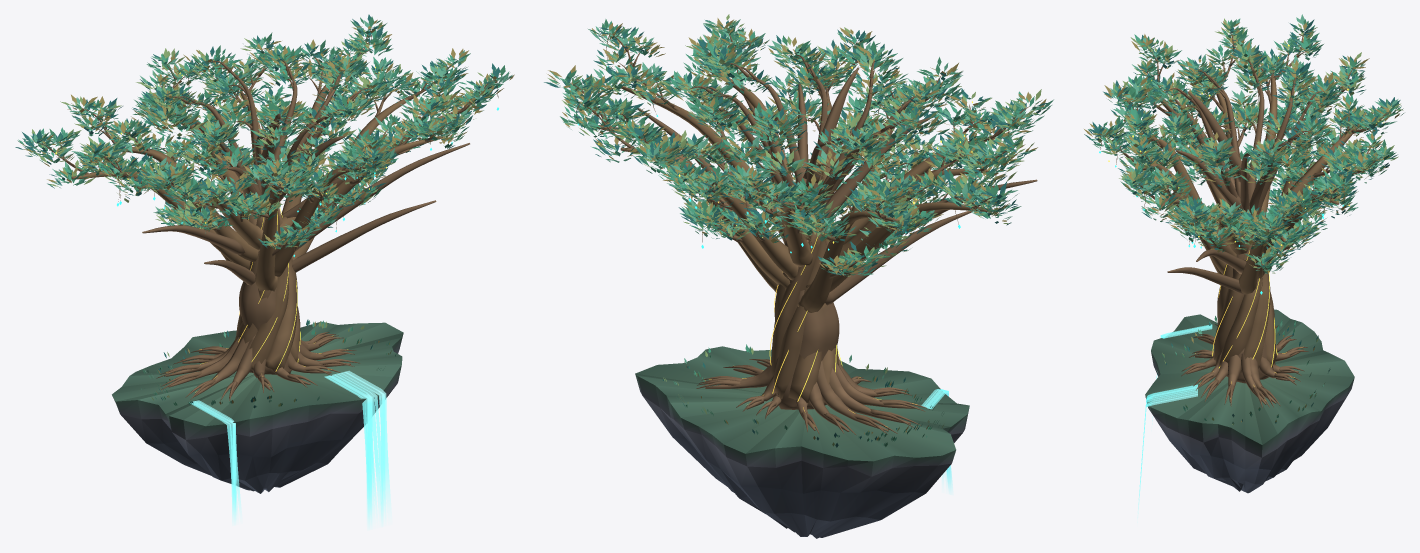
The model's file is yggdrasil-mobile.glb.
3 renders of one model, left to right at view 1: azimuth 30°, elevation 25°; view 2: azimuth 150°, elevation 25°; view 3: azimuth 270°, elevation 25°, orthographic. The views are drawn at different scales.
Parts seen in each view (by area): view 1: 02 | Jade and bronze leaf canopy, 01 | Heartwood and roots, 05 | Floating island strata, 06 | Astral waterfalls; view 2: 02 | Jade and bronze leaf canopy, 01 | Heartwood and roots, 05 | Floating island strata; view 3: 02 | Jade and bronze leaf canopy, 01 | Heartwood and roots, 05 | Floating island strata, 06 | Astral waterfalls, 03 | Golden sap and seed lights.
Part boxes in pixels (x1=…): 02 | Jade and bronze leaf canopy: x1=15, y1=14, x2=514, y2=408; 01 | Heartwood and roots: x1=36, y1=30, x2=498, y2=400; 05 | Floating island strata: x1=112, y1=321, x2=403, y2=493; 06 | Astral waterfalls: x1=189, y1=371, x2=390, y2=526; 02 | Jade and bronze leaf canopy: x1=544, y1=14, x2=1053, y2=447; 01 | Heartwood and roots: x1=569, y1=29, x2=1037, y2=434; 05 | Floating island strata: x1=635, y1=346, x2=969, y2=538; 02 | Jade and bronze leaf canopy: x1=1084, y1=14, x2=1403, y2=425; 01 | Heartwood and roots: x1=1100, y1=33, x2=1390, y2=407; 05 | Floating island strata: x1=1145, y1=309, x2=1354, y2=493; 06 | Astral waterfalls: x1=1138, y1=324, x2=1212, y2=513; 03 | Golden sap and seed lights: x1=1108, y1=44, x2=1383, y2=400.
Size of the model in its own units: 17.25 by 16.07 by 11.29.
